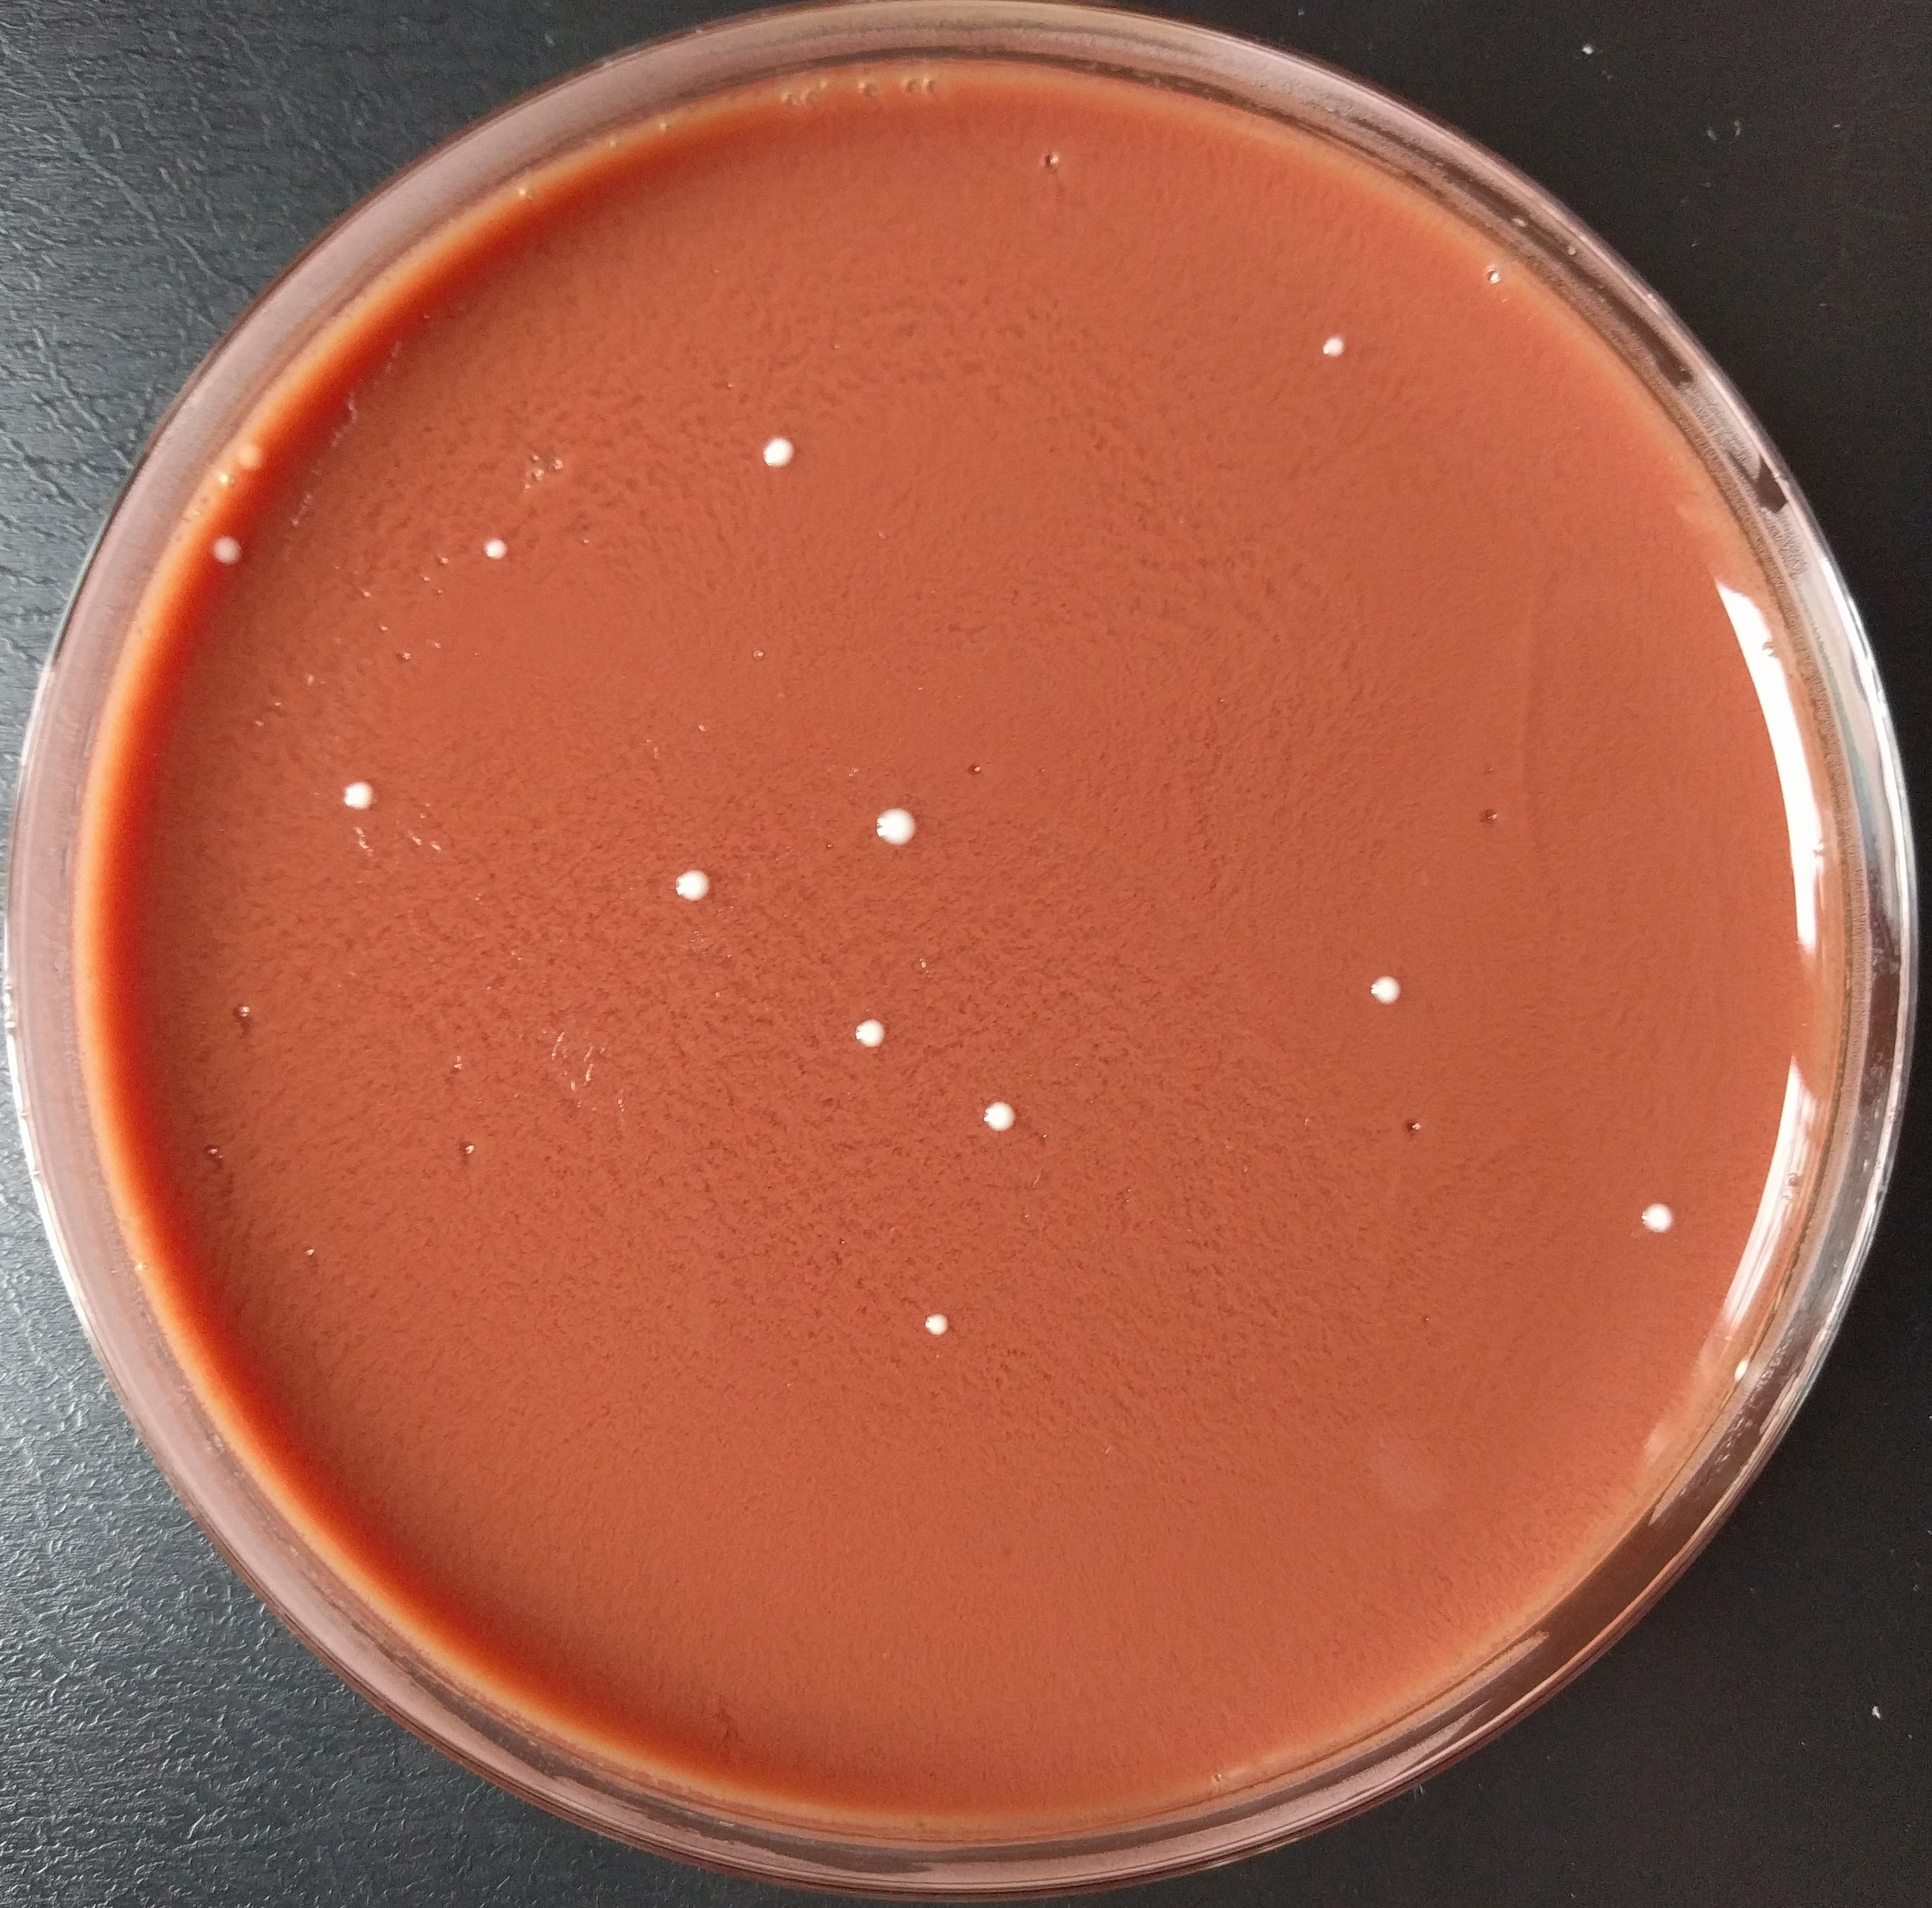sp12: (866, 774, 949, 881), (898, 1293, 994, 1347), (330, 769, 411, 825), (838, 1003, 908, 1057), (657, 867, 734, 914), (966, 1089, 1046, 1132), (1352, 964, 1418, 1017), (739, 430, 814, 475), (473, 514, 519, 573), (206, 514, 243, 587), (232, 430, 283, 482), (1630, 1202, 1686, 1242), (1319, 325, 1350, 365)
